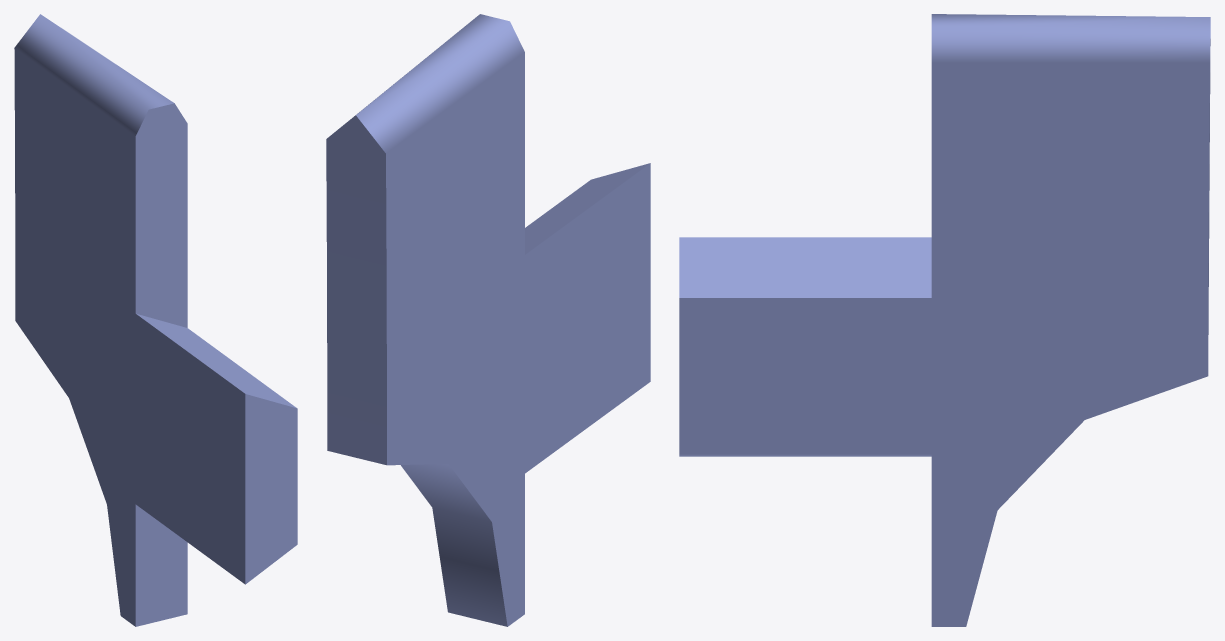
Rendered from Copie de Ressort_grande_detente^Horloge Comtoise Verge - Sonnerie.obj.
3 views of the same model, side by side, from view 1: azimuth 30°, elevation 25°; view 2: azimuth 150°, elevation 25°; view 3: azimuth 270°, elevation 25° (orthographic). The views are drawn at different scales.
Parts seen in each view (by area): view 1: Face_8, Face_2, Face_10, Face_1, Face_4, Face_11; view 2: Face_8, Face_3, Face_1, Face_6, Face_11; view 3: Face_5, Face_11, Face_1, Face_9.
Part boxes in pixels (box(x1,y1,x2,y2)): Face_8: box(14, 48, 245, 626); Face_2: box(135, 103, 187, 327); Face_10: box(245, 394, 297, 584); Face_1: box(14, 14, 174, 135); Face_4: box(135, 504, 187, 626); Face_11: box(136, 313, 296, 408); Face_8: box(386, 52, 650, 626); Face_3: box(326, 115, 386, 465); Face_1: box(338, 14, 524, 153); Face_6: box(401, 464, 507, 626); Face_11: box(525, 163, 649, 254); Face_5: box(679, 63, 1210, 626); Face_11: box(679, 237, 931, 297); Face_1: box(931, 14, 1210, 62); Face_9: box(679, 454, 931, 456).
Size of the model in its own units: 0.002 by 0.019 by 0.0154.
